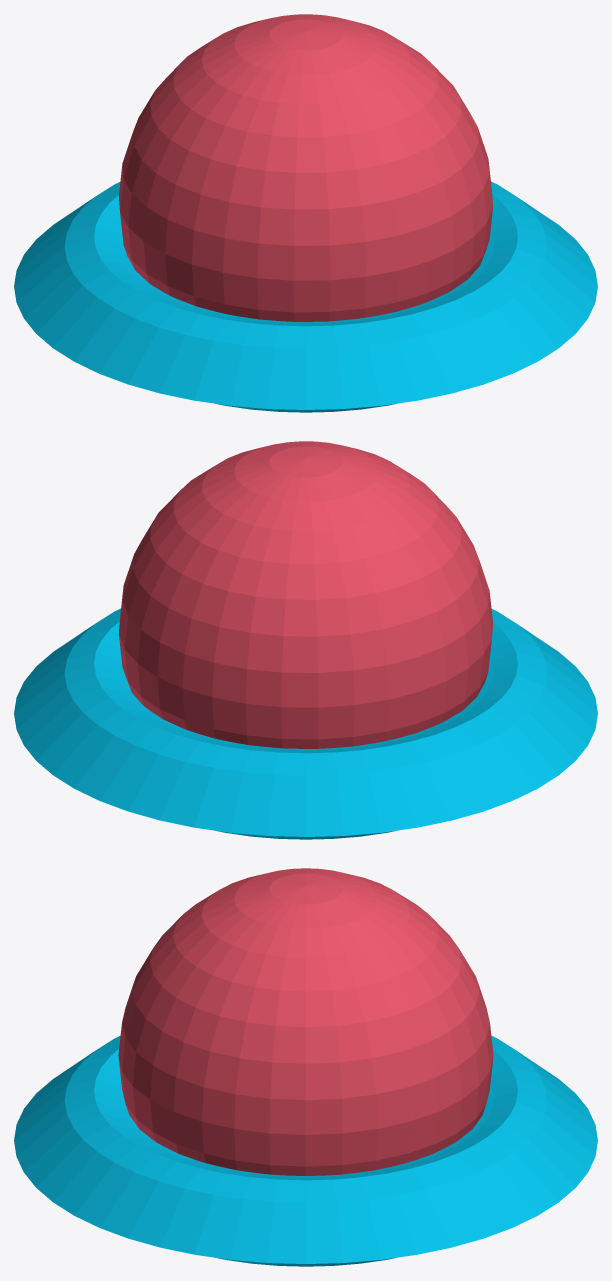
The model's file is Enemy_Model.fbx.
3 renders of one model, top to bottom at view 1: azimuth 30°, elevation 25°; view 2: azimuth 150°, elevation 25°; view 3: azimuth 270°, elevation 25°, orthographic.
Visible parts, largest first — view 1: Enemy; view 2: Enemy; view 3: Enemy.
Boxes of the visible parts, x1,y1,x2,y2 form: Enemy: (14, 14, 597, 412); Enemy: (14, 441, 597, 839); Enemy: (14, 868, 597, 1266).
Size of the model in its own units: 311 by 200 by 311.
